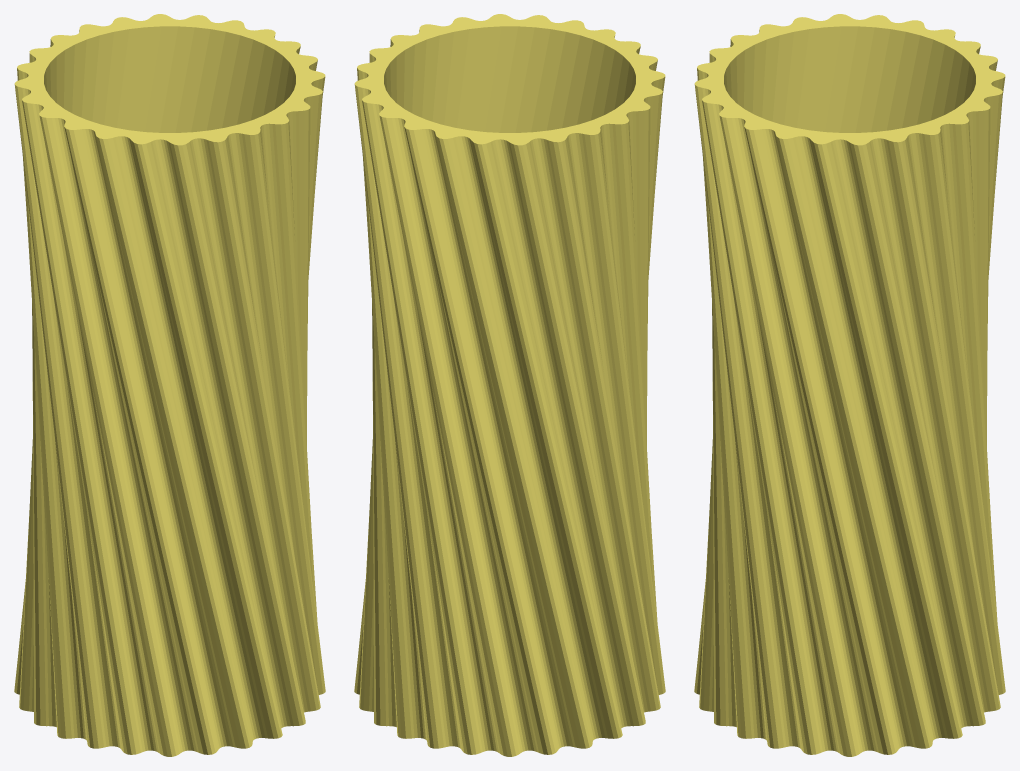
Rendered from Rigatoni-wrapped.gltf.
3 views of the same model, side by side, from view 1: azimuth 30°, elevation 25°; view 2: azimuth 150°, elevation 25°; view 3: azimuth 270°, elevation 25° (orthographic).
Visible parts, largest first — view 1: Rigatoni-wrapped; view 2: Rigatoni-wrapped; view 3: Rigatoni-wrapped.
Part boxes in pixels (x1,y1,x2,y2): Rigatoni-wrapped: (14, 14, 325, 756); Rigatoni-wrapped: (354, 14, 665, 756); Rigatoni-wrapped: (694, 14, 1005, 756).
Size of the model in its own units: 1.31 by 2.84 by 1.31.
